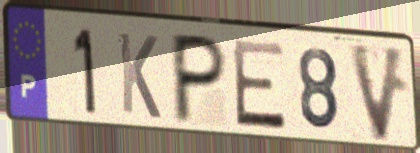1: (71, 26, 100, 118)
8: (296, 45, 343, 133)
E: (230, 37, 289, 133)
K: (116, 28, 164, 122)
P: (170, 30, 230, 127)
V: (345, 39, 409, 146)
